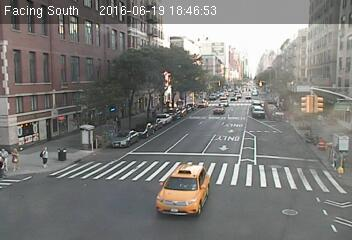neg: (335, 155, 350, 175), (328, 142, 341, 161), (142, 105, 155, 122), (305, 127, 317, 144), (318, 109, 326, 120), (169, 97, 177, 107)
pos: (4, 147, 22, 172), (36, 144, 54, 168)
